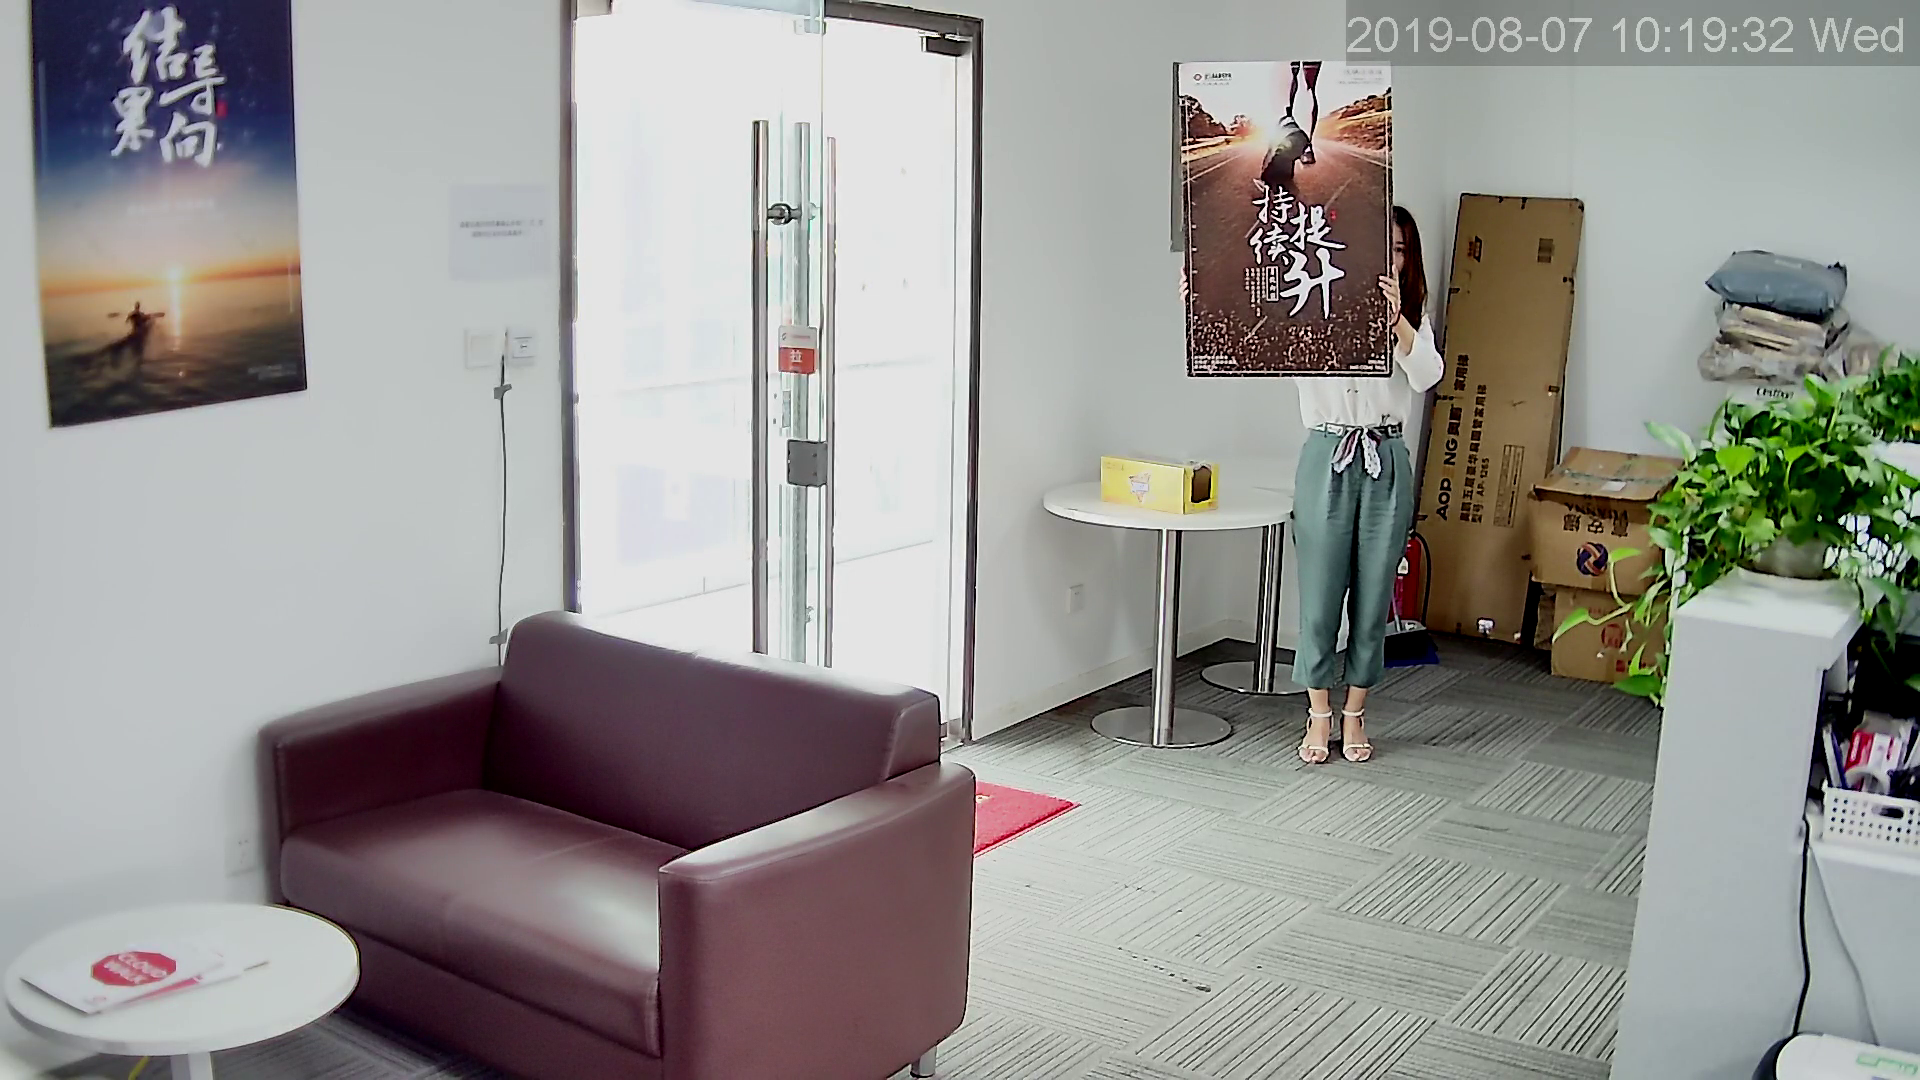bill: (28, 1, 306, 436), (1175, 61, 1393, 378)
